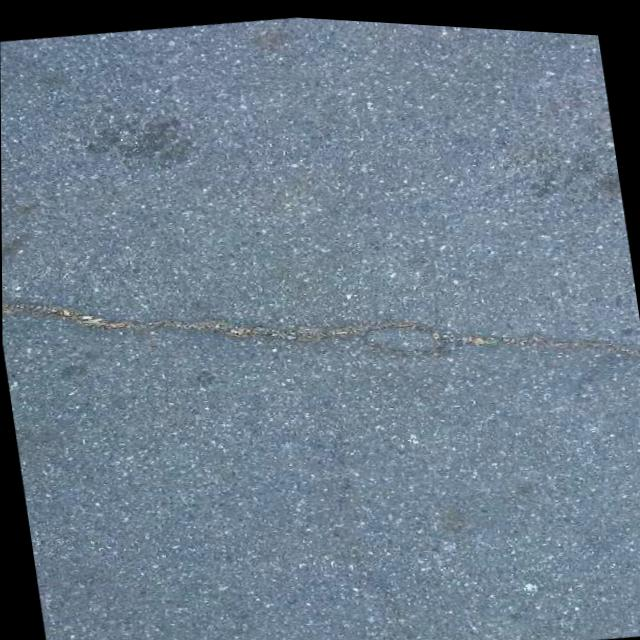Crack: (1, 203, 640, 437)
